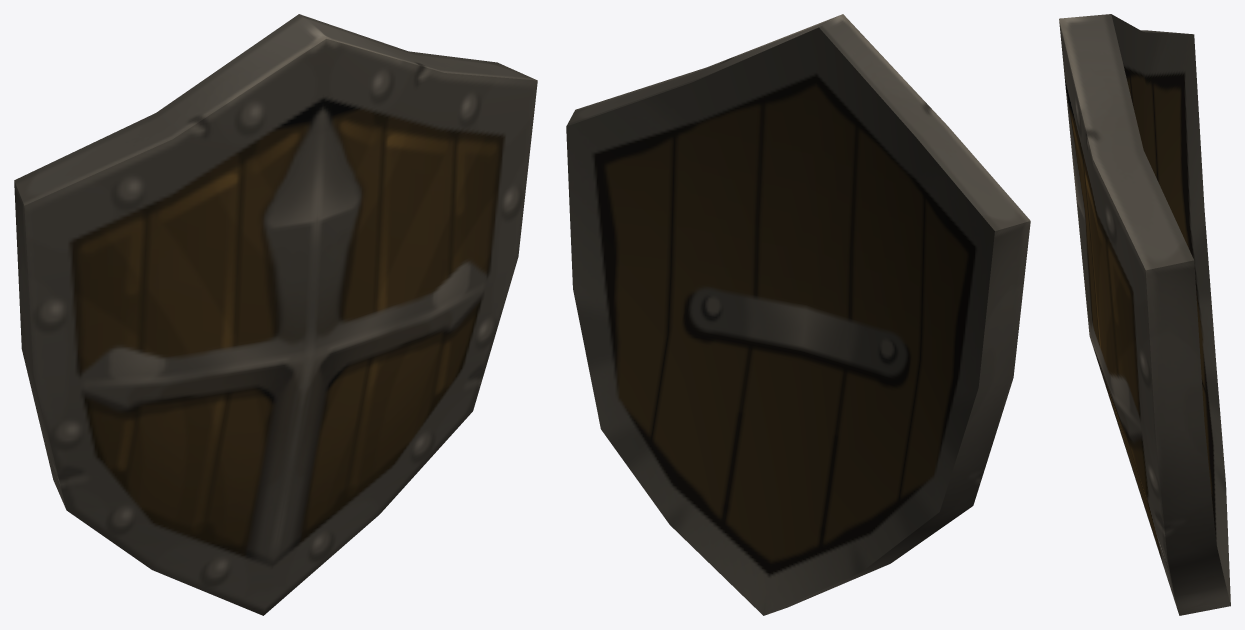
The model's file is shield.FBX.
3 views of the same model, side by side, from view 1: azimuth 30°, elevation 25°; view 2: azimuth 150°, elevation 25°; view 3: azimuth 270°, elevation 25° (orthographic). The views are drawn at different scales.
Visible parts, largest first — view 1: shield; view 2: shield; view 3: shield.
Part boxes in pixels (x1,y1,x2,y2): shield: (14, 14, 537, 615); shield: (566, 14, 1030, 615); shield: (1059, 14, 1230, 615).
Size of the model in its own units: 15.63 by 18.27 by 4.73.
1 material, 1 textured.
